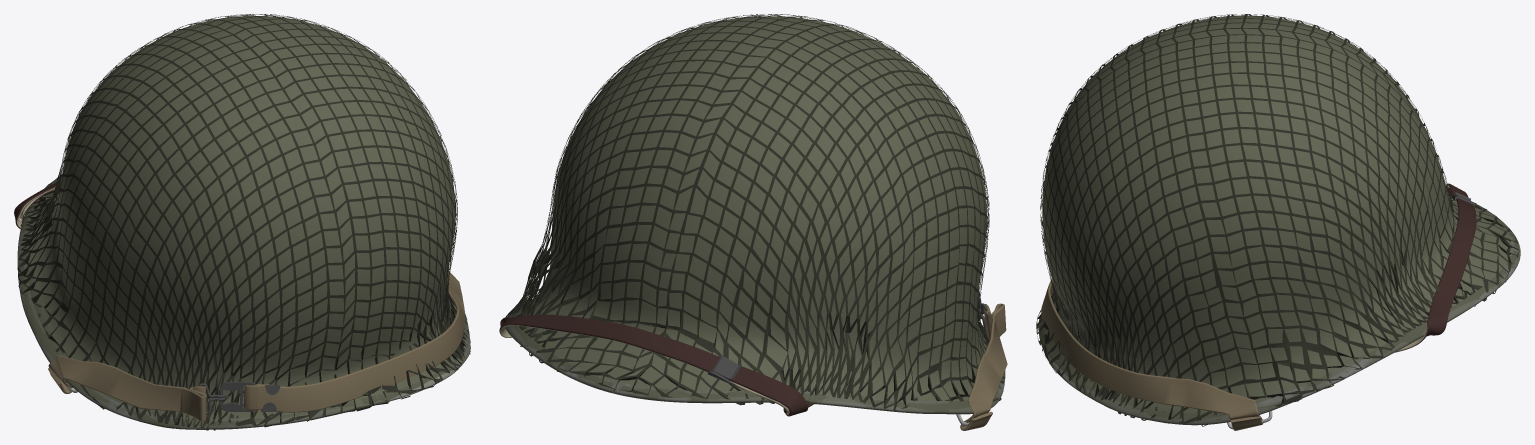
Rendered from m1_steel_helmet_wnet.glb.
3 views of the same model, side by side, from view 1: azimuth 30°, elevation 25°; view 2: azimuth 150°, elevation 25°; view 3: azimuth 270°, elevation 25° (orthographic). The views are drawn at different scales.
Visible parts, largest first — view 1: Object_4, Object_30, Object_34, Object_5, Object_33, Object_16; view 2: Object_4, Object_30, Object_5, Object_26, Object_33, Object_19; view 3: Object_4, Object_30, Object_34, Object_5, Object_26.
Part boxes in pixels (<box>): Object_4: <box>26,16,465,429</box>; Object_30: <box>17,14,470,430</box>; Object_34: <box>244,270,464,412</box>; Object_5: <box>17,178,470,429</box>; Object_33: <box>48,355,206,421</box>; Object_16: <box>219,381,256,411</box>; Object_4: <box>513,16,987,405</box>; Object_30: <box>506,14,1004,411</box>; Object_5: <box>505,301,1005,414</box>; Object_26: <box>499,314,721,375</box>; Object_33: <box>960,303,1007,430</box>; Object_19: <box>721,366,813,416</box>; Object_4: <box>1038,16,1511,423</box>; Object_30: <box>1036,14,1519,426</box>; Object_34: <box>1041,279,1263,430</box>; Object_5: <box>1039,201,1520,425</box>; Object_26: <box>1395,198,1476,352</box>.
Bounding box in the file's own units: 3.25 × 2.41 × 3.45.
32 materials, 2 textured.
